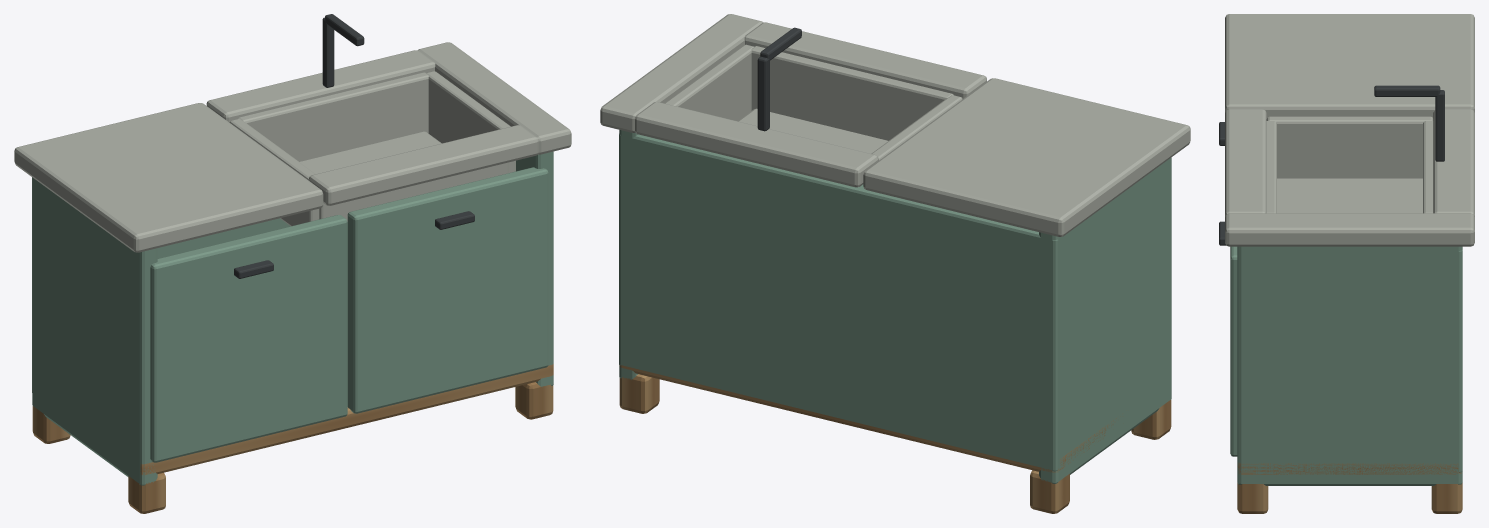
The model's file is kitchen_counter.glb.
The picture shows the model from 3 angles, left to right: view 1: azimuth 30°, elevation 25°; view 2: azimuth 150°, elevation 25°; view 3: azimuth 270°, elevation 25°; orthographic projection. The views are drawn at different scales.
Visible parts, largest first — view 1: door.003, door.002, cabinet_side, worktop_left, basin_end.001, rim, rim.001, rim_right, base, basin_side.001, basin_end, basin_bottom (+7 smaller); view 2: back.001, worktop_left, cabinet_side, basin_end, rim.001, rim_right, rim, basin_side.001, base, basin_bottom, leg.027, leg.025 (+3 smaller); view 3: cabinet_side.001, worktop_left, basin_side, rim_right, basin_bottom, rim, rim.001, back.001, base, door.003, basin_end, basin_end.001 (+4 smaller).
Boxes of the visible parts, left/top/right/bottom form: door.003: left=347, top=167, right=548, bottom=413; door.002: left=150, top=215, right=347, bottom=462; cabinet_side: left=32, top=178, right=157, bottom=485; worktop_left: left=14, top=103, right=323, bottom=252; basin_end.001: left=238, top=72, right=428, bottom=161; rim: left=309, top=125, right=538, bottom=205; rim.001: left=206, top=50, right=435, bottom=122; rim_right: left=418, top=42, right=571, bottom=154; base: left=140, top=364, right=553, bottom=475; basin_side.001: left=426, top=71, right=515, bottom=172; basin_end: left=319, top=162, right=508, bottom=221; basin_bottom: left=300, top=131, right=441, bottom=173; back.001: left=619, top=134, right=1063, bottom=471; worktop_left: left=863, top=78, right=1190, bottom=236; cabinet_side: left=1039, top=157, right=1171, bottom=483; basin_end: left=751, top=46, right=953, bottom=140; rim.001: left=635, top=102, right=878, bottom=187; rim_right: left=600, top=14, right=763, bottom=132; rim: left=744, top=22, right=986, bottom=98; basin_side.001: left=664, top=44, right=753, bottom=121; base: left=619, top=365, right=1120, bottom=472; basin_bottom: left=738, top=108, right=887, bottom=153; leg.027: left=619, top=374, right=659, bottom=413; leg.025: left=1030, top=470, right=1069, bottom=513; cabinet_side.001: left=1237, top=246, right=1462, bottom=485; worktop_left: left=1225, top=14, right=1474, bottom=118; basin_side: left=1266, top=116, right=1433, bottom=178; rim_right: left=1225, top=213, right=1474, bottom=246; basin_bottom: left=1277, top=178, right=1422, bottom=213; rim: left=1225, top=109, right=1266, bottom=216; rim.001: left=1433, top=109, right=1474, bottom=216; back.001: left=1449, top=250, right=1462, bottom=472; base: left=1237, top=463, right=1461, bottom=474; door.003: left=1230, top=246, right=1237, bottom=456; basin_end: left=1266, top=121, right=1276, bottom=213; basin_end.001: left=1423, top=121, right=1433, bottom=213.
Size of the model in its own units: 1.48 by 1.16 by 0.7375.
4 materials, 1 textured.
